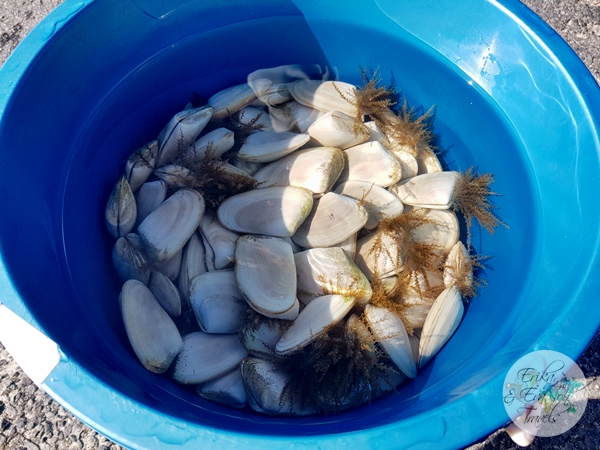tuatua: (117, 276, 185, 379), (234, 232, 303, 315), (134, 186, 207, 263), (272, 291, 357, 355), (215, 185, 317, 237), (250, 146, 349, 199), (294, 246, 374, 311), (290, 189, 369, 248), (188, 265, 249, 339), (238, 351, 299, 423), (173, 328, 248, 386), (365, 302, 418, 379), (416, 285, 464, 364), (155, 104, 211, 167), (285, 76, 364, 120), (339, 139, 406, 188), (388, 169, 465, 211), (230, 127, 314, 162), (301, 109, 369, 150), (208, 72, 267, 119), (101, 174, 138, 234)
